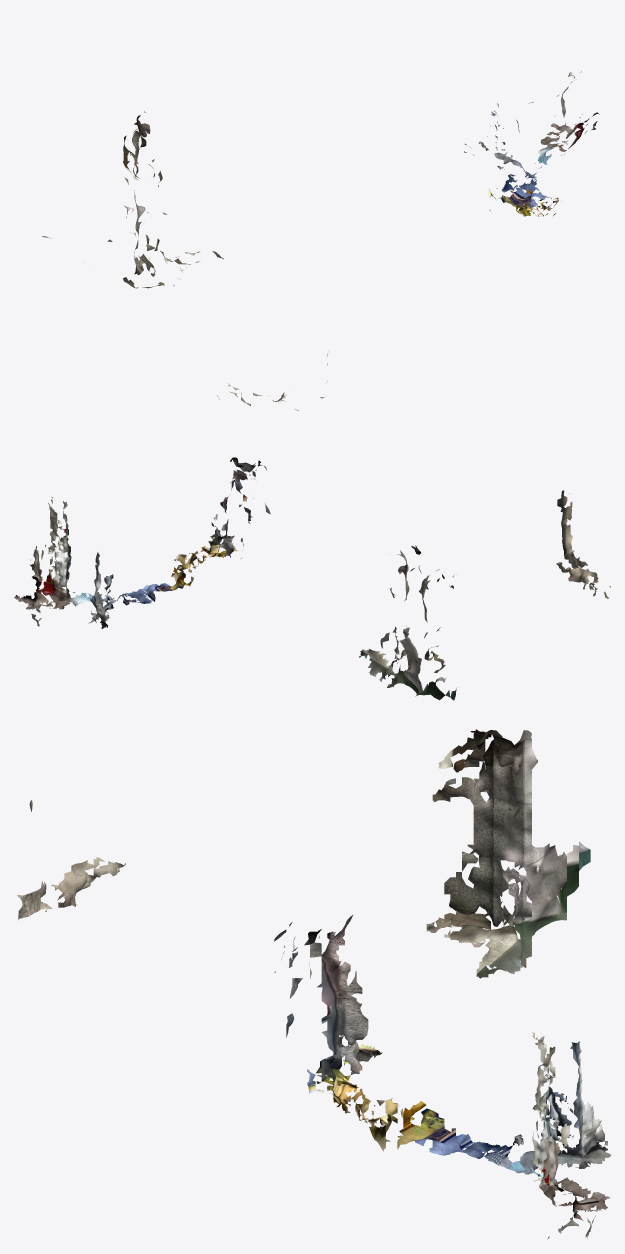
File: 137920-Rote-tex.glb
The picture shows the model from 3 angles, top to bottom: view 1: azimuth 30°, elevation 25°; view 2: azimuth 150°, elevation 25°; view 3: azimuth 270°, elevation 25°; orthographic projection. The views are drawn at different scales.
Parts seen in each view (by area): view 1: Node; view 2: Node; view 3: Node.
Boxes of the visible parts, x1,y1,x2,y2 form: Node: (42, 71, 599, 410); Node: (14, 457, 610, 700); Node: (17, 729, 610, 1239).
Size of the model in its own units: 9.71 by 3.08 by 6.99.
Materials: 1 (1 with a texture image).
